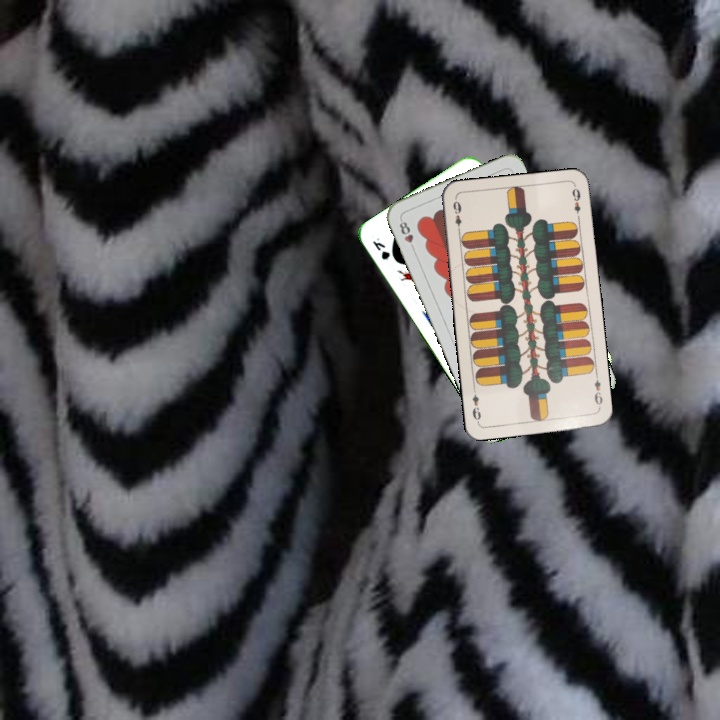E9: (449, 196, 464, 236), (590, 371, 605, 411)
GK: (368, 234, 393, 262)
H8: (395, 215, 418, 254)
